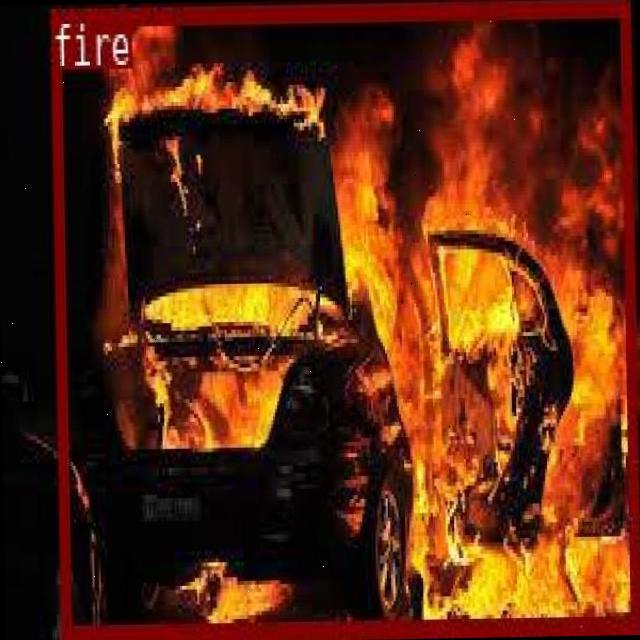fire: (48, 0, 636, 636)
